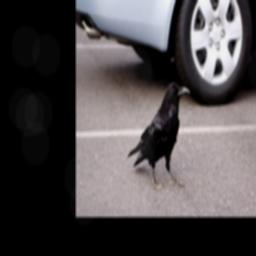Crow: (126, 79, 190, 189)
